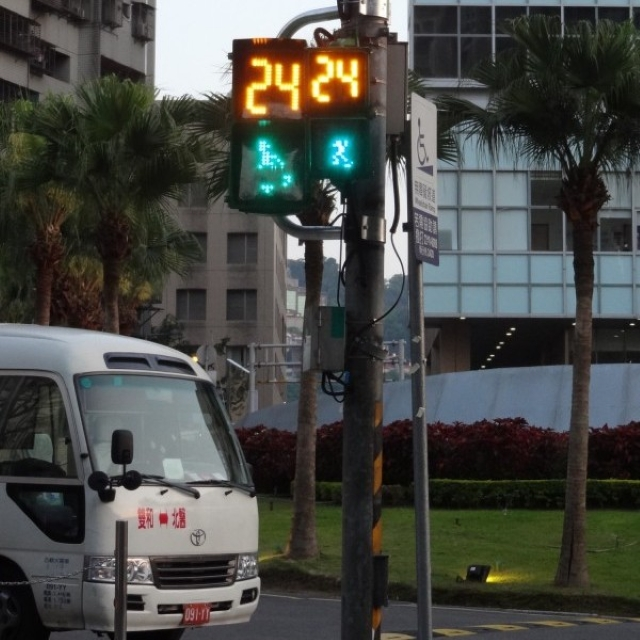green_light: (231, 38, 310, 213), (308, 49, 373, 178)
